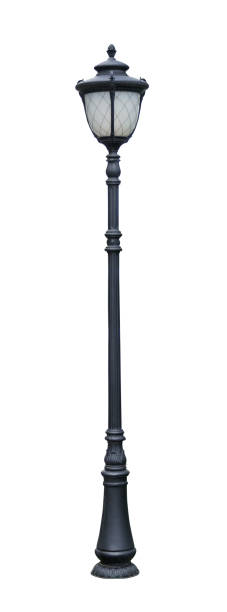light_pole: (89, 160, 138, 577)
